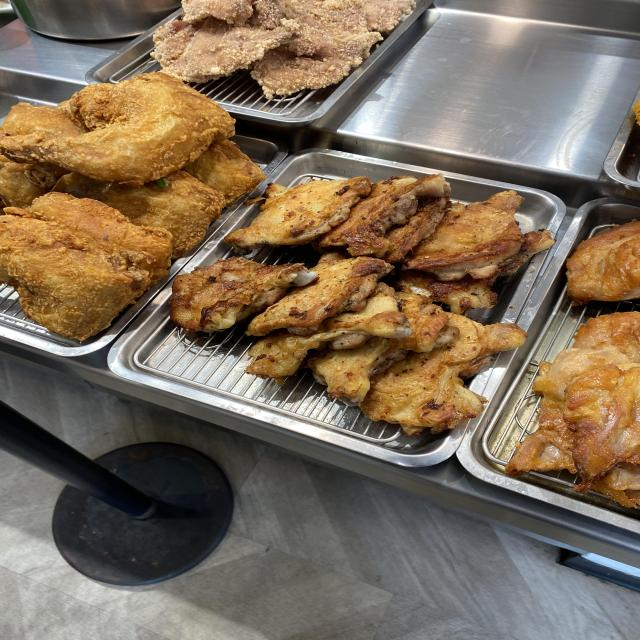Chicken Leg Steak: (275, 192, 469, 371)
